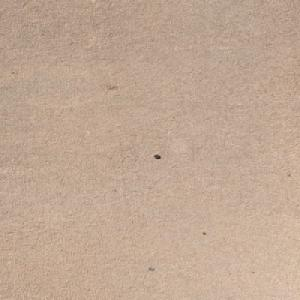Nut: (152, 153, 159, 158)
